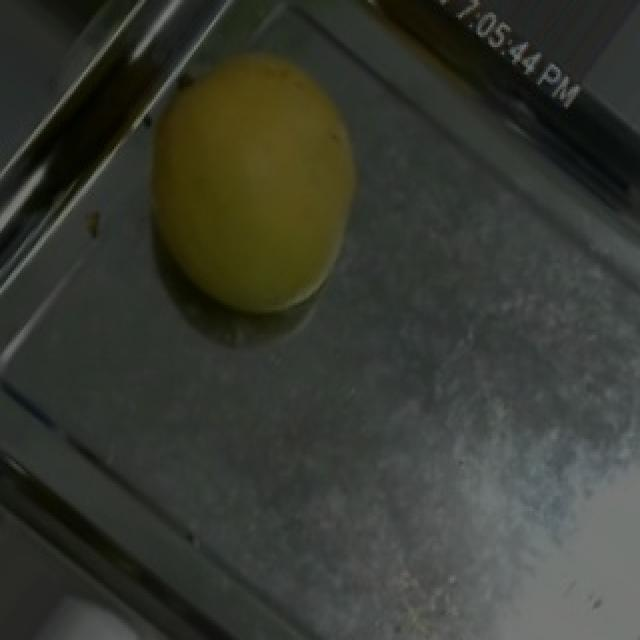fruit: (98, 0, 450, 375)
